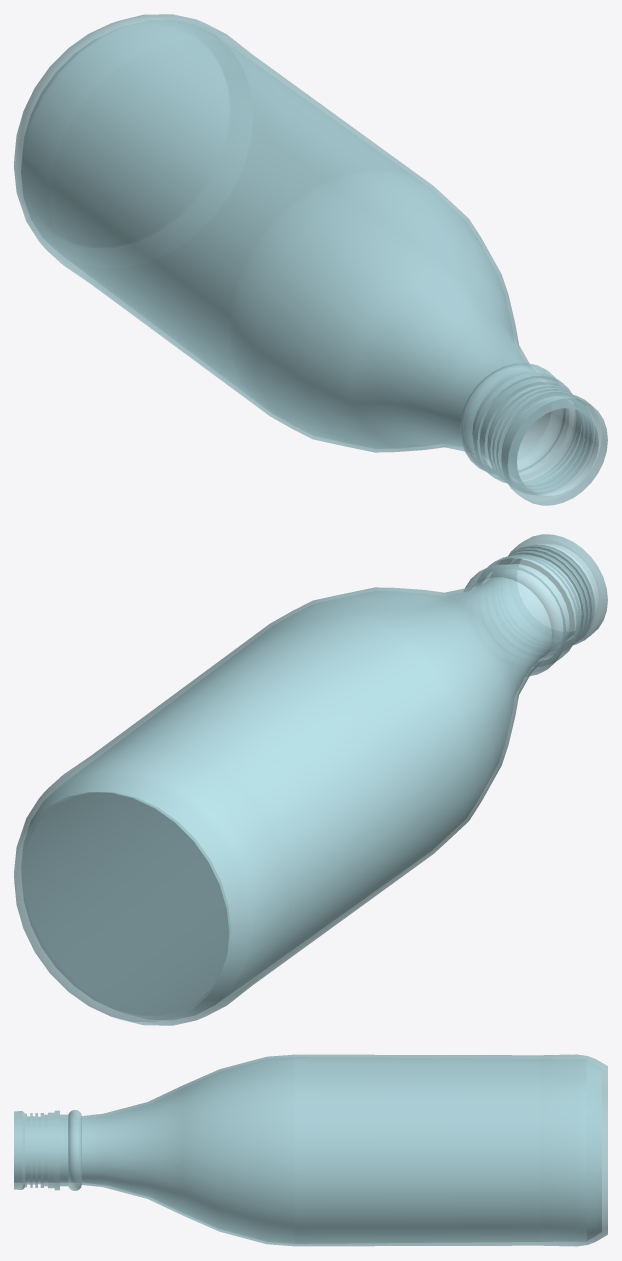
Rendered from jiro_bottle.gltf.
3 renders of one model, top to bottom at view 1: azimuth 30°, elevation 25°; view 2: azimuth 150°, elevation 25°; view 3: azimuth 270°, elevation 25°, orthographic. The views are drawn at different scales.
Parts seen in each view (by area): view 1: Part 1; view 2: Part 1; view 3: Part 1.
Boxes of the visible parts, bbox=[...] form: Part 1: bbox=[14, 14, 607, 505]; Part 1: bbox=[14, 534, 607, 1025]; Part 1: bbox=[14, 1054, 607, 1246].
Size of the model in its own units: 0.0159 by 0.0158 by 0.049.
